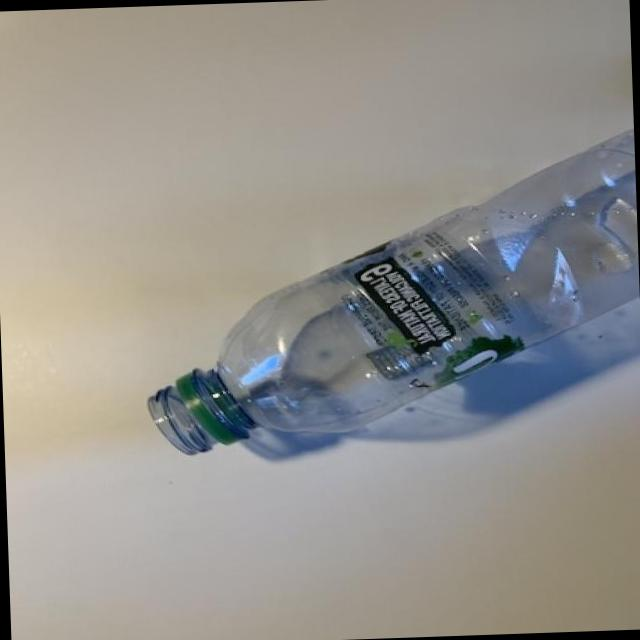BotolPlastik: (137, 125, 640, 460)
